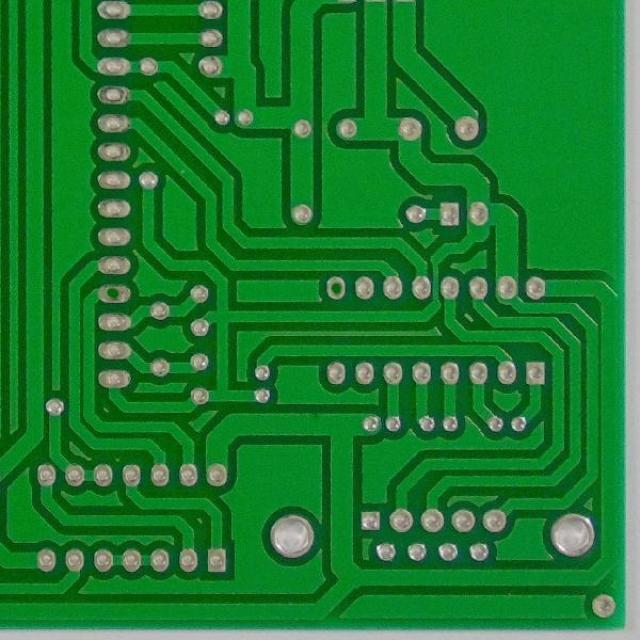Missing_Hole: (95, 281, 134, 305), (324, 274, 346, 302)
